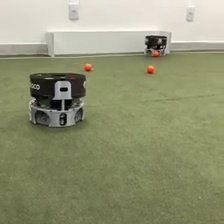ball: (146, 64, 155, 74), (84, 62, 92, 71), (152, 49, 160, 56)
goal: (45, 30, 172, 56)
robot: (27, 70, 89, 129), (143, 33, 168, 58)
